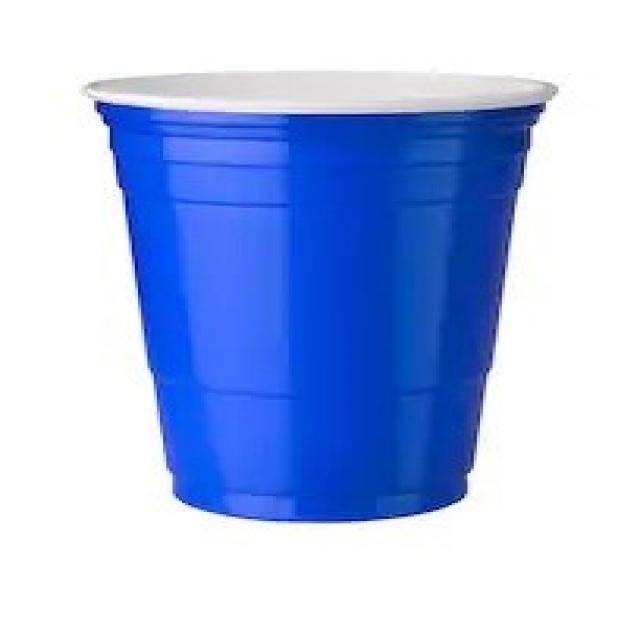Plastic: (76, 57, 558, 525)
